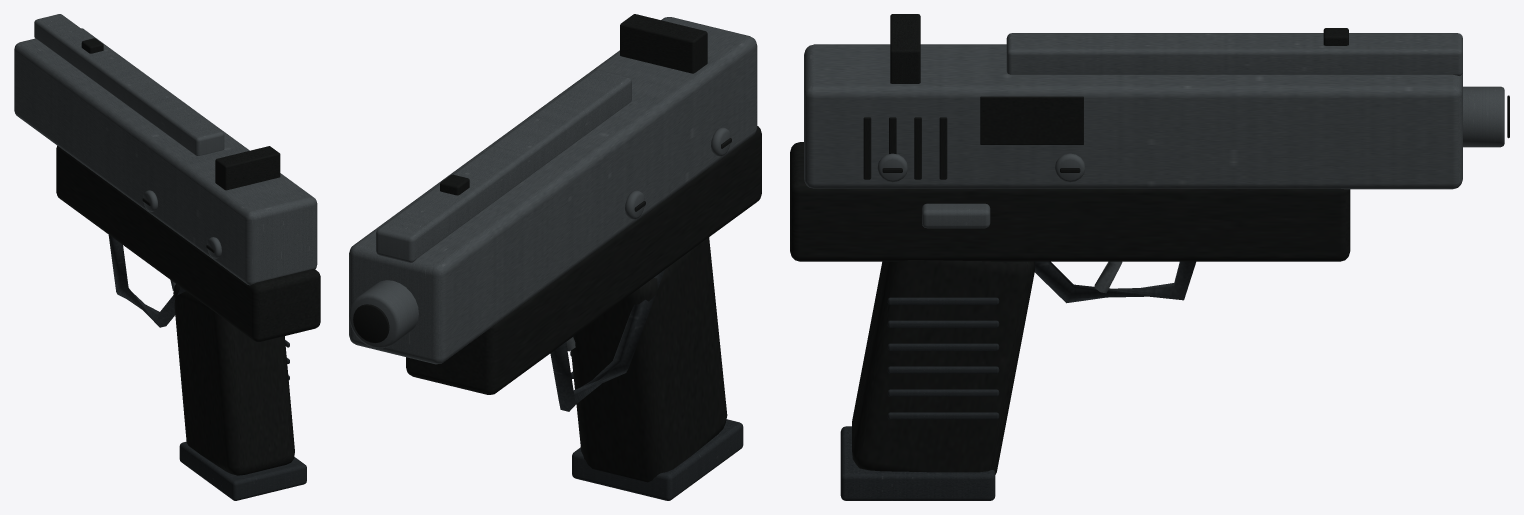
Rendered from deagle.glb.
The picture shows the model from 3 angles, left to right: view 1: azimuth 30°, elevation 25°; view 2: azimuth 150°, elevation 25°; view 3: azimuth 270°, elevation 25°; orthographic projection. The views are drawn at different scales.
Visible parts, largest first — view 1: weapon_Polymer, slide_Weapon finish / Machined edges, slide_Machined edges, magazine_Parkerized steel, slide_Polymer, weapon_Parkerized steel, weapon_Machined edges; view 2: weapon_Polymer, slide_Weapon finish / Machined edges, slide_Machined edges, slide_Polymer, magazine_Parkerized steel, weapon_Machined edges, weapon_Parkerized steel; view 3: weapon_Polymer, slide_Weapon finish / Machined edges, slide_Machined edges, weapon_Parkerized steel, weapon_Machined edges, magazine_Parkerized steel, slide_Polymer.
Part boxes in pixels (<box>): weapon_Polymer: <box>56,145,320,475</box>; slide_Weapon finish / Machined edges: <box>14,28,317,285</box>; slide_Machined edges: <box>34,14,224,155</box>; magazine_Parkerized steel: <box>179,441,306,500</box>; slide_Polymer: <box>81,38,280,190</box>; weapon_Parkerized steel: <box>108,234,289,380</box>; weapon_Machined edges: <box>143,190,221,258</box>; weapon_Polymer: <box>353,126,761,482</box>; slide_Weapon finish / Machined edges: <box>349,17,757,364</box>; slide_Machined edges: <box>376,70,631,262</box>; slide_Polymer: <box>440,14,707,195</box>; magazine_Parkerized steel: <box>572,419,743,500</box>; weapon_Machined edges: <box>349,127,730,348</box>; weapon_Parkerized steel: <box>550,269,665,411</box>; weapon_Polymer: <box>790,95,1509,474</box>; slide_Weapon finish / Machined edges: <box>804,44,1462,189</box>; slide_Machined edges: <box>1006,33,1462,76</box>; weapon_Parkerized steel: <box>887,261,1195,419</box>; weapon_Machined edges: <box>877,86,1504,228</box>; magazine_Parkerized steel: <box>840,426,995,500</box>; slide_Polymer: <box>863,14,1348,179</box>.
Bounding box in the file's own units: 0.0575 × 0.194 × 0.284.
4 materials, 4 textured.
